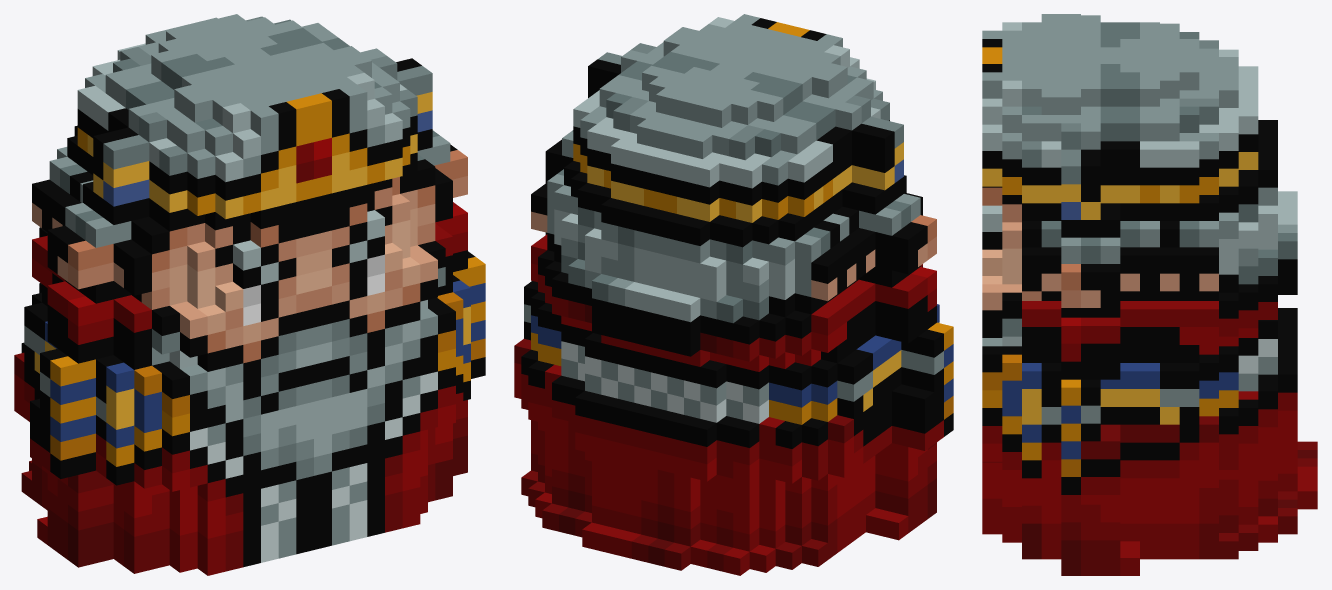
Rendered from Icon_901_01.obj.
The picture shows the model from 3 angles, left to right: view 1: azimuth 30°, elevation 25°; view 2: azimuth 150°, elevation 25°; view 3: azimuth 270°, elevation 25°; orthographic projection. The views are drawn at different scales.
Size of the model in its own units: 2.4 by 2.4 by 1.7.
